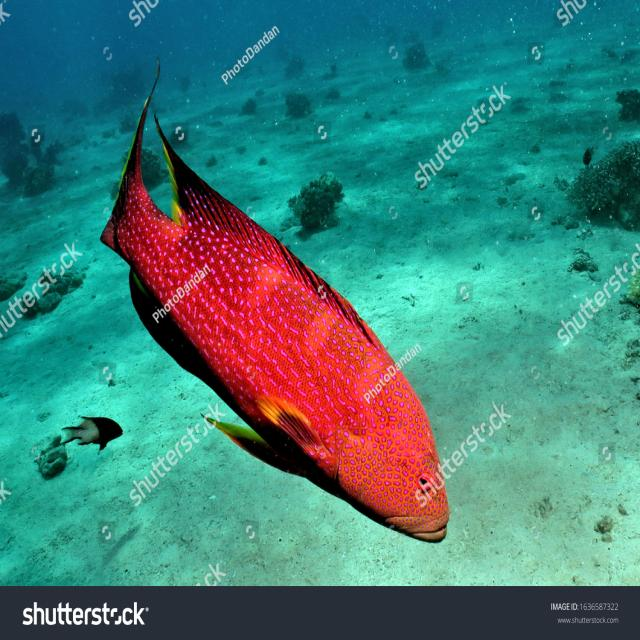Plectropomus-leopardus: (88, 70, 464, 549)
